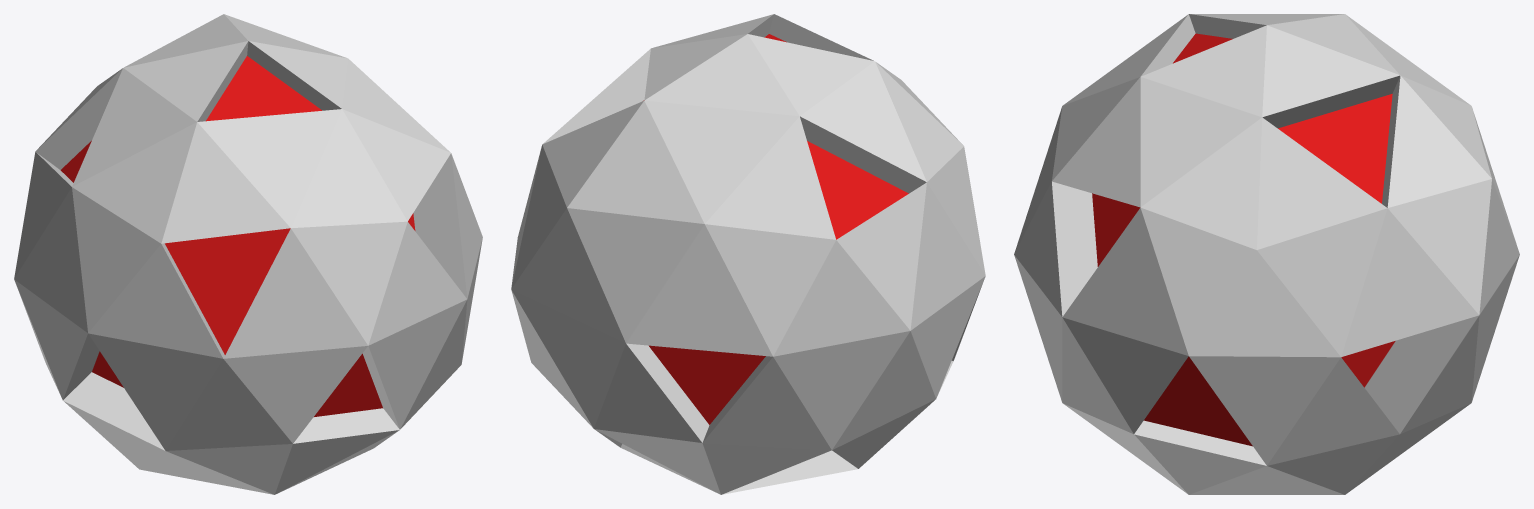
The model's file is asteroide__55.glb.
3 views of the same model, side by side, from view 1: azimuth 30°, elevation 25°; view 2: azimuth 150°, elevation 25°; view 3: azimuth 270°, elevation 25° (orthographic). The views are drawn at different scales.
Visible parts, largest first — view 1: Icosphere; view 2: Icosphere; view 3: Icosphere.
Part boxes in pixels (bbox=[...]): Icosphere: bbox=[14, 14, 482, 494]; Icosphere: bbox=[511, 14, 985, 494]; Icosphere: bbox=[1014, 14, 1519, 494].
Bounding box in the file's own units: 1.05 × 1.1 × 1.1.
